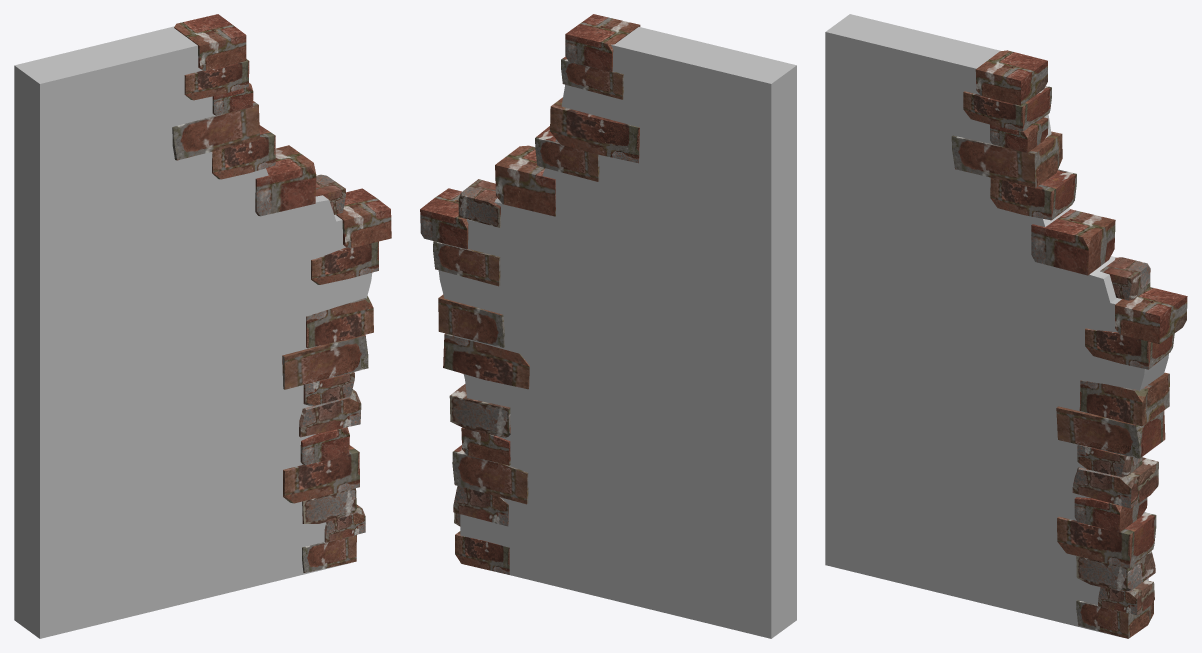
Rendered from SM_Wall_Ruined_08.fbx.
3 views of the same model, side by side, from view 1: azimuth 30°, elevation 25°; view 2: azimuth 150°, elevation 25°; view 3: azimuth 330°, elevation 25° (orthographic). The views are drawn at different scales.
Parts seen in each view (by area): view 1: SM_Wall_Ruined_08_LOD0; view 2: SM_Wall_Ruined_08_LOD0; view 3: SM_Wall_Ruined_08_LOD0.
Boxes of the visible parts, left/top/right/bottom form: SM_Wall_Ruined_08_LOD0: left=14, top=14, right=391, bottom=638; SM_Wall_Ruined_08_LOD0: left=420, top=14, right=796, bottom=638; SM_Wall_Ruined_08_LOD0: left=825, top=14, right=1187, bottom=638.
Size of what is drawn, in the model's own units: 396 by 601 by 60.52.
